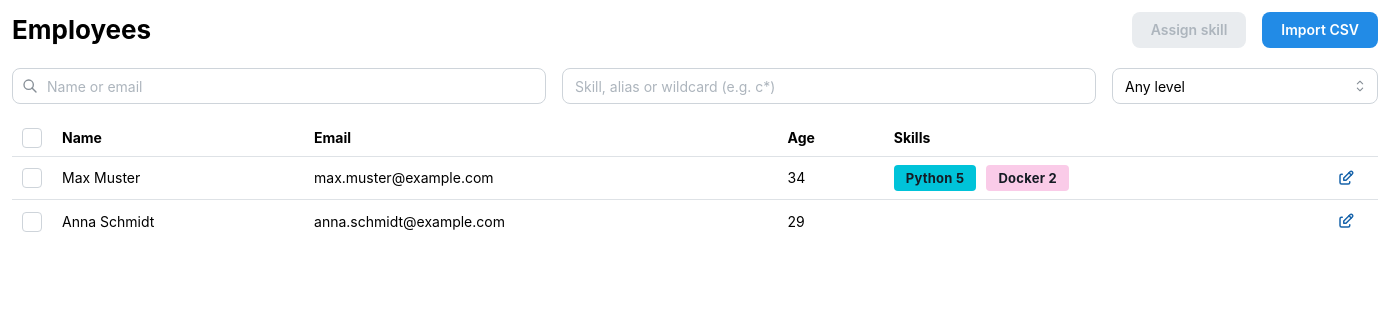
Test case: EmployeeOverview › selects and clears all rows with the header checkbox
Click the checkbox named "Select all employees" at (32, 138), box [22,128,42,148]
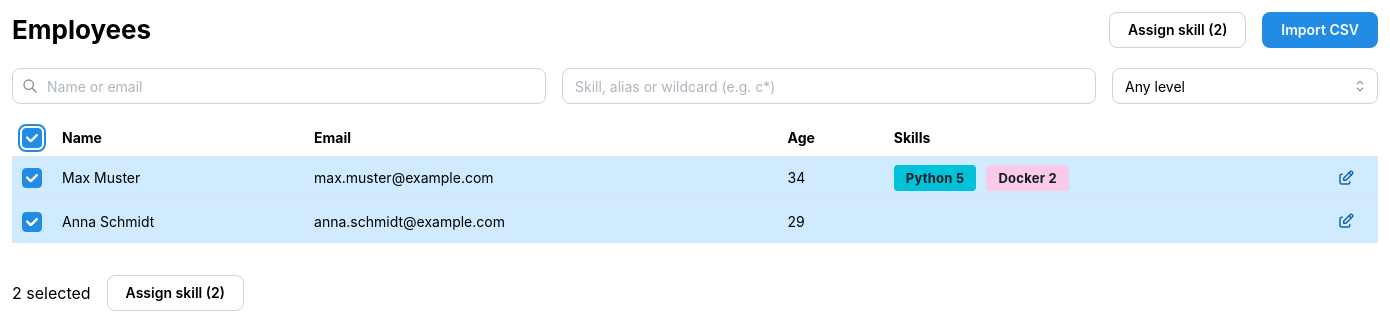
Result: the button "Assign skill (2)" in the row of "Employees" is shown at [1109,12,1246,48]
Result: the checkbox named "Select Anna Schmidt" is checked at [22,212,42,232]
Click the checkbox named "Select all employees" at (32, 138), box [22,128,42,148]
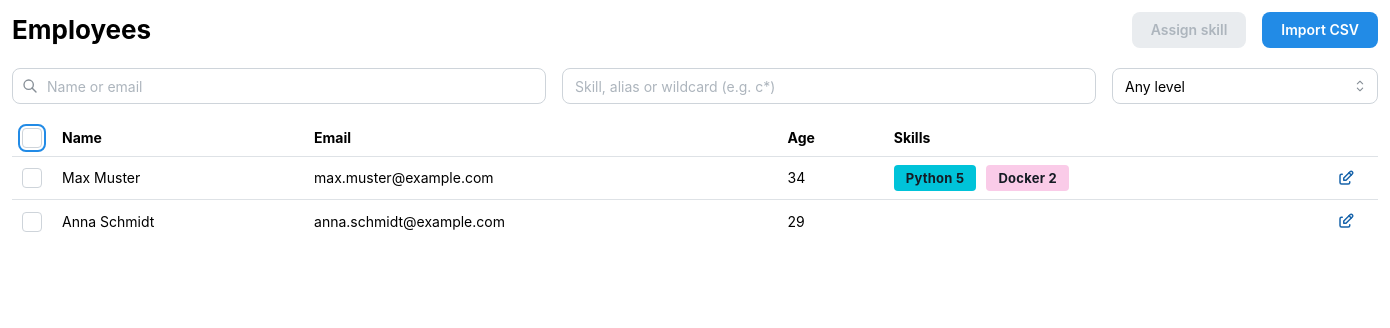
Result: the button "Assign skill" is shown at [1132,12,1246,48]
